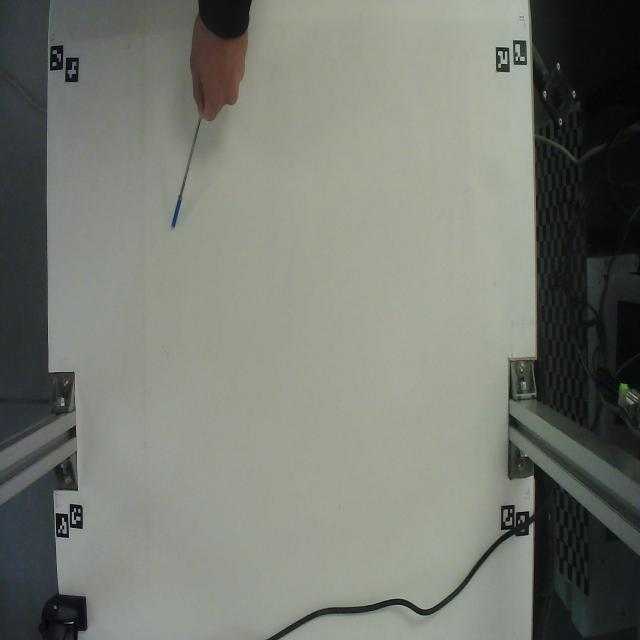Pres: (154, 104, 221, 283)
